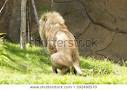lion: (37, 11, 94, 85)
